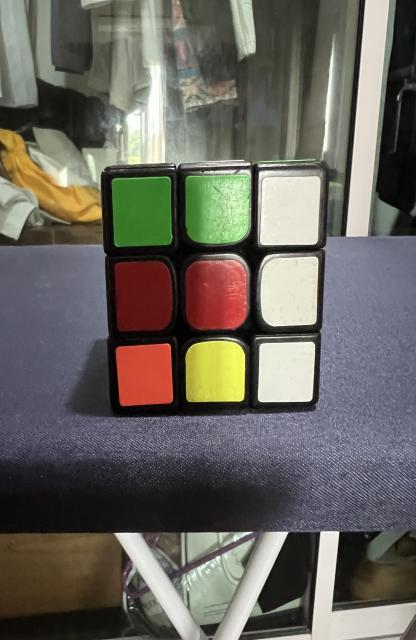Green: (185, 174, 250, 244), (112, 176, 172, 248)
Orange: (116, 344, 173, 406)
Red: (185, 260, 247, 330), (115, 261, 172, 331)
White: (260, 176, 321, 245), (260, 256, 318, 326), (258, 341, 315, 402)
Yellow: (185, 340, 246, 402)
